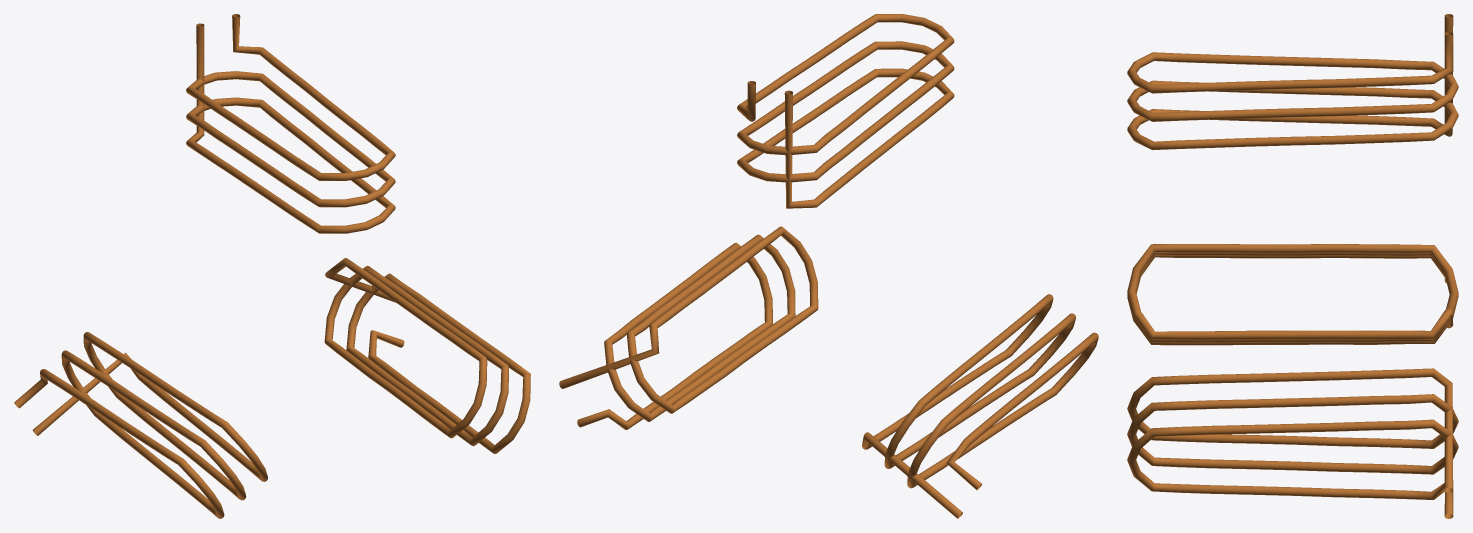
The model's file is DCblCoil3.glb.
The picture shows the model from 3 angles, left to right: view 1: azimuth 30°, elevation 25°; view 2: azimuth 150°, elevation 25°; view 3: azimuth 270°, elevation 25°; orthographic projection. The views are drawn at different scales.
Parts seen in each view (by area): view 1: Spiral.004, Spiral.002, Spiral.001; view 2: Spiral.004, Spiral.001, Spiral.002; view 3: Spiral.001, Spiral.004, Spiral.002.
Boxes of the visible parts, x1,y1,x2,y2 form: Spiral.004: (186, 14, 395, 233); Spiral.002: (14, 332, 267, 518); Spiral.001: (324, 258, 530, 453); Spiral.004: (737, 14, 954, 208); Spiral.001: (559, 226, 818, 429); Spiral.002: (862, 294, 1098, 518); Spiral.001: (1127, 368, 1458, 518); Spiral.004: (1127, 14, 1458, 150); Spiral.002: (1127, 244, 1458, 345).
Size of the model in its own units: 6.86 by 6.01 by 4.52.
